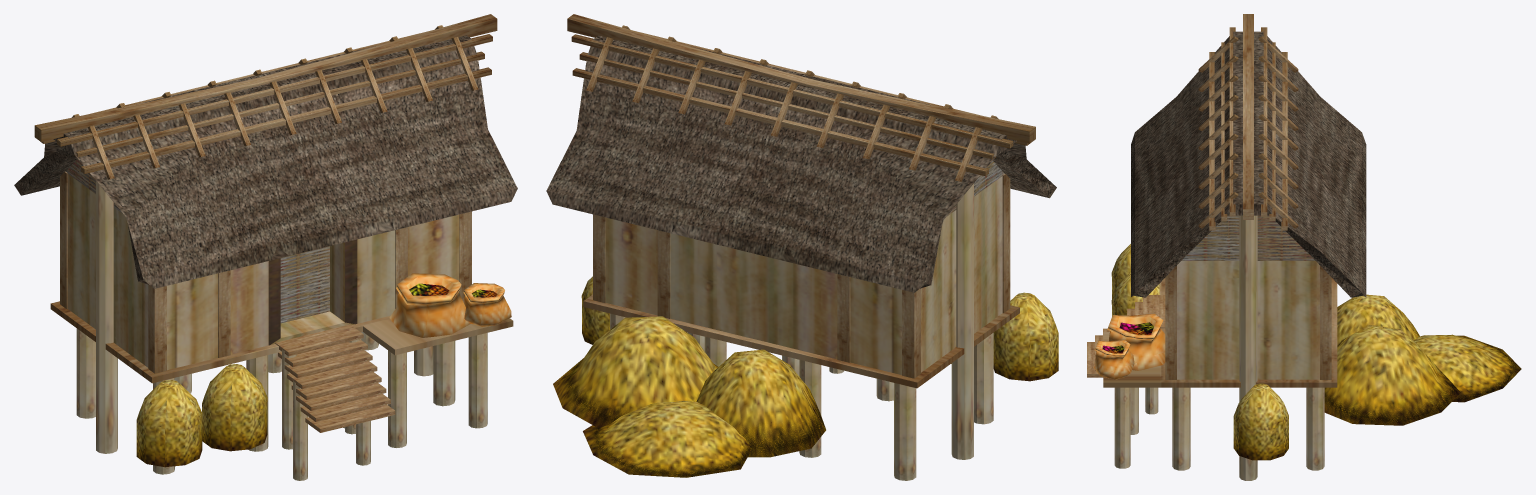
Rendered from yayoi_farm.dae.
3 renders of one model, left to right at view 1: azimuth 30°, elevation 25°; view 2: azimuth 150°, elevation 25°; view 3: azimuth 270°, elevation 25°, orthographic. The views are drawn at different scales.
Visible parts, largest first — view 1: FARM; view 2: FARM; view 3: FARM.
Part boxes in pixels (x1,y1,x2,y2): FARM: [14, 14, 517, 480]; FARM: [546, 14, 1058, 480]; FARM: [1087, 14, 1521, 480].
Bounding box in the file's own units: 16.16 × 15.2 × 11.85.
Materials: 1 (1 with a texture image).
